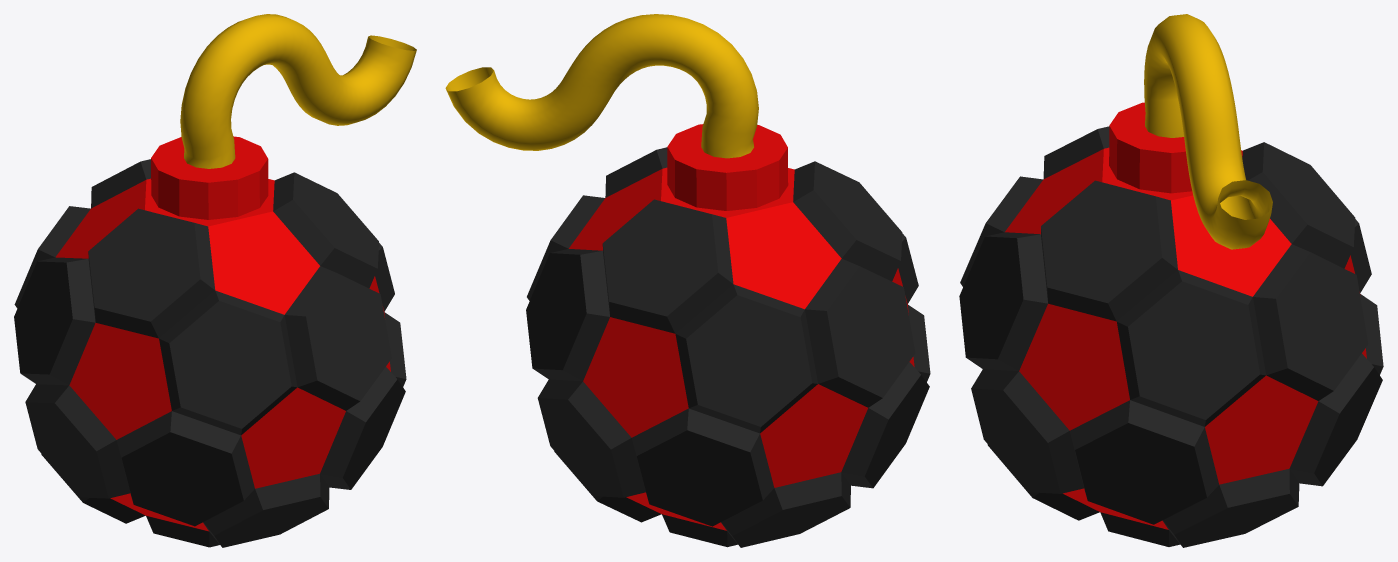
The model's file is bomb export test.fbx.
3 renders of one model, left to right at view 1: azimuth 30°, elevation 25°; view 2: azimuth 150°, elevation 25°; view 3: azimuth 270°, elevation 25°, orthographic. The views are drawn at different scales.
Visible parts, largest first — view 1: polySurface14, polySurface11; view 2: polySurface14, polySurface11; view 3: polySurface14, polySurface11.
Part boxes in pixels (x1=…): polySurface14: x1=14, y1=136, x2=406, y2=547; polySurface11: x1=180, y1=14, x2=416, y2=168; polySurface14: x1=526, y1=124, x2=930, y2=547; polySurface11: x1=445, y1=14, x2=758, y2=158; polySurface14: x1=959, y1=102, x2=1383, y2=547; polySurface11: x1=1144, y1=14, x2=1272, y2=249.
Bounding box in the file's own units: 13.32 × 14.98 × 11.07.
